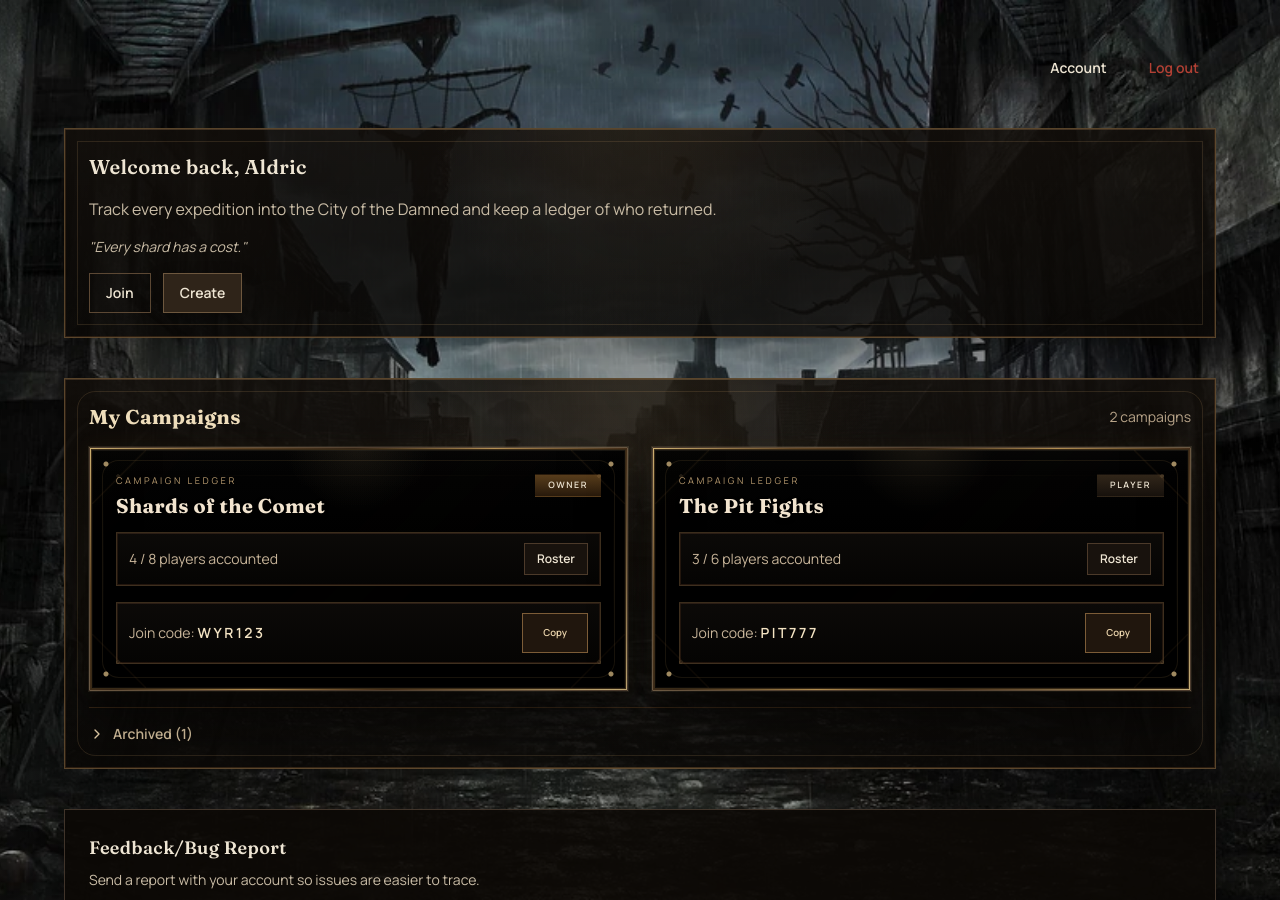
Scenario: Archived campaigns (CAMP-NEW-04) › lists them apart, under Archived, folded until opened
Expected: the text "2 campaigns" is shown, 1110,407 -> 1191,427
Expected: the element "The Drowned Quarter" is not shown
Click the button "Archived (1)" at (141, 734), box 89,724 -> 193,744
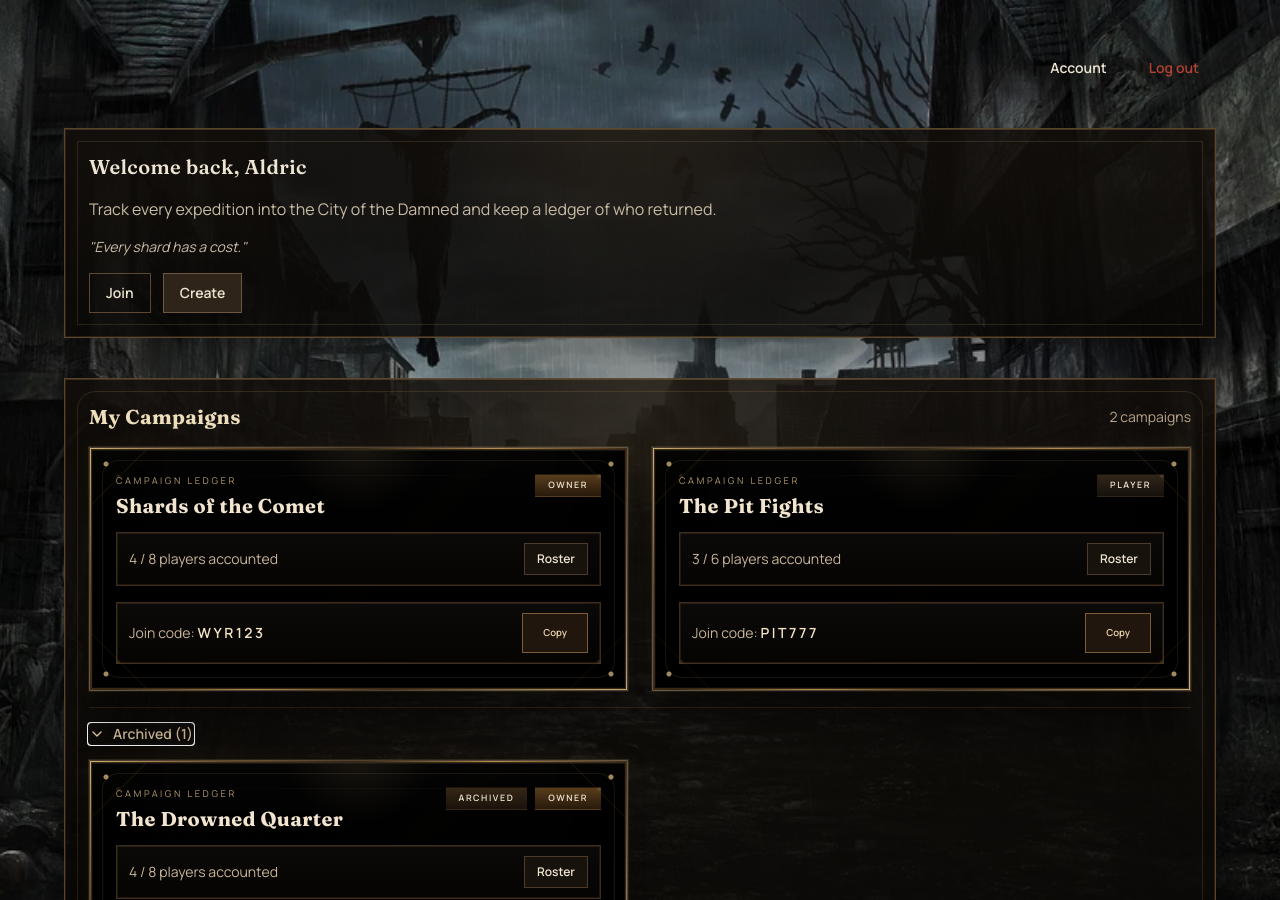
Expected: the element "The Drowned Quarter" shows "Archived", 459,792 -> 514,804
Expected: the button "Archived (1)" is expanded, 89,724 -> 193,744
